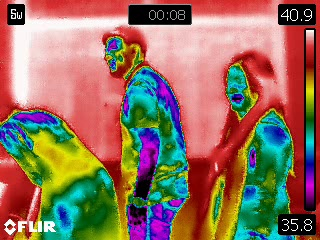human: (100, 27, 192, 240), (1, 100, 119, 240), (210, 51, 297, 240)
